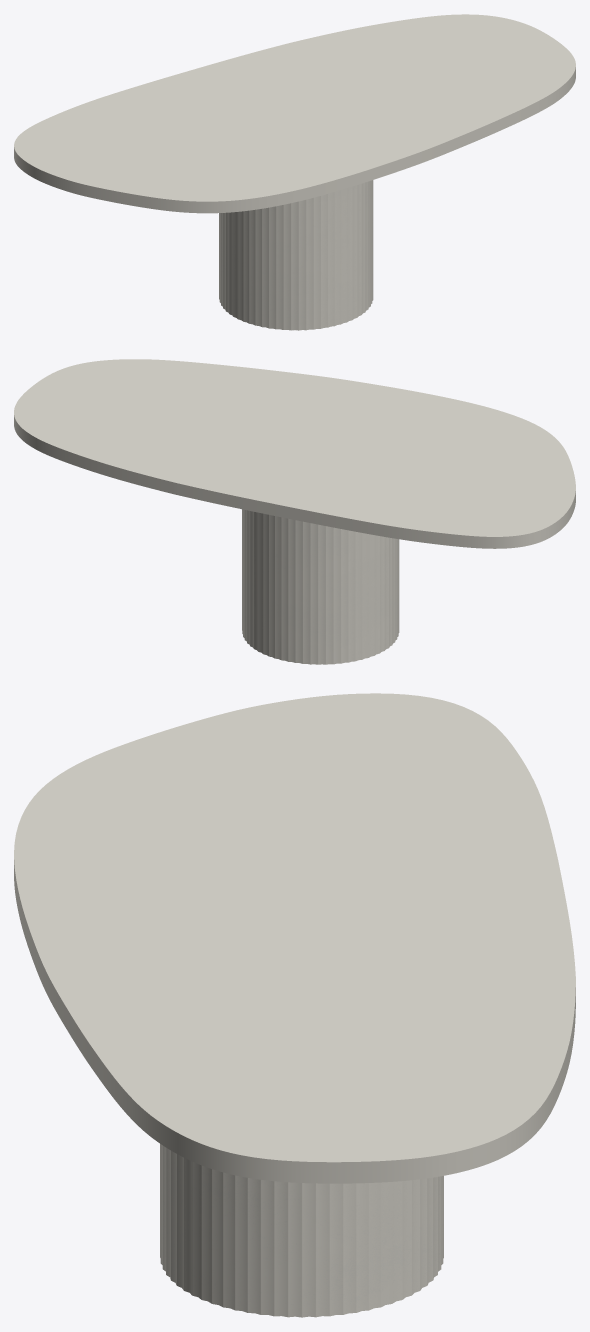
File: pale_leaf2_standard_ripple.glb
The picture shows the model from 3 angles, top to bottom: view 1: azimuth 30°, elevation 25°; view 2: azimuth 150°, elevation 25°; view 3: azimuth 270°, elevation 25°; orthographic projection. The views are drawn at different scales.
Parts seen in each view (by area): view 1: standard_leaf2, ripple; view 2: standard_leaf2, ripple; view 3: standard_leaf2, ripple.
Boxes of the visible parts, left/top/right/bottom form: standard_leaf2: left=14, top=14, right=575, bottom=213; ripple: left=219, top=180, right=373, bottom=330; standard_leaf2: left=14, top=359, right=575, bottom=548; ripple: left=242, top=509, right=399, bottom=664; standard_leaf2: left=14, top=693, right=575, bottom=1183; ripple: left=160, top=1144, right=443, bottom=1317.
Bounding box in the file's own units: 7.5 × 2.52 × 3.8.
Materials: 1 (1 with a texture image).
